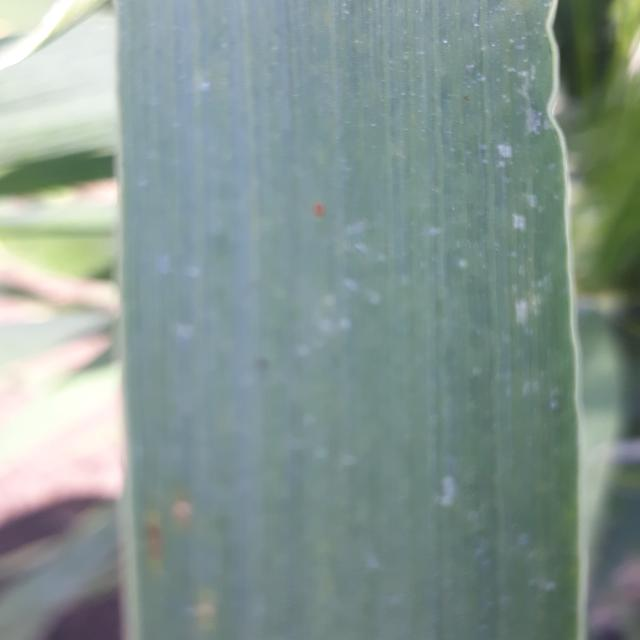orang_rust: (111, 454, 283, 640), (282, 196, 381, 247)
